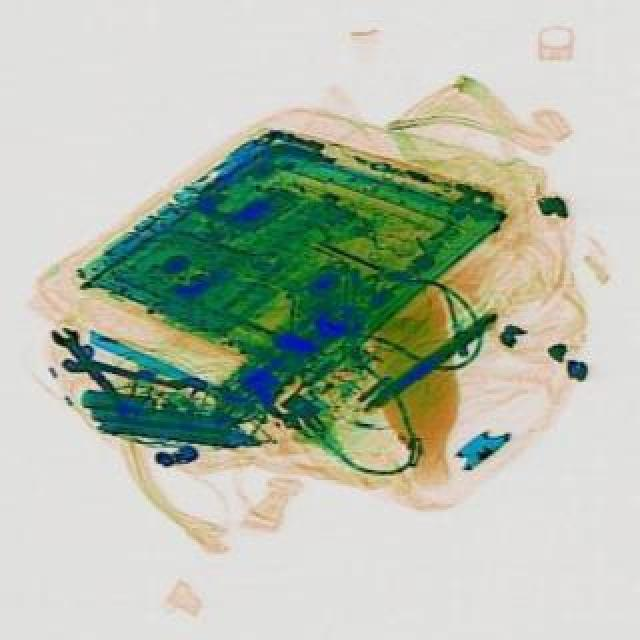scissors: (44, 320, 138, 426), (56, 338, 208, 402)
